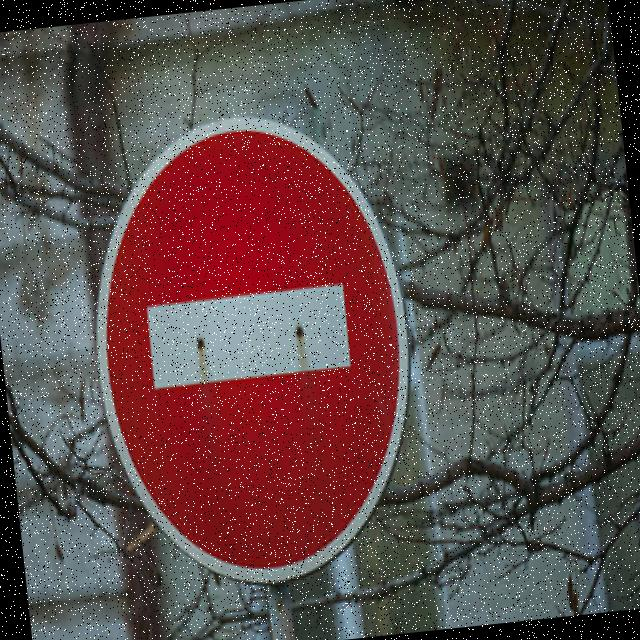do_not_enter: (66, 92, 432, 603)
